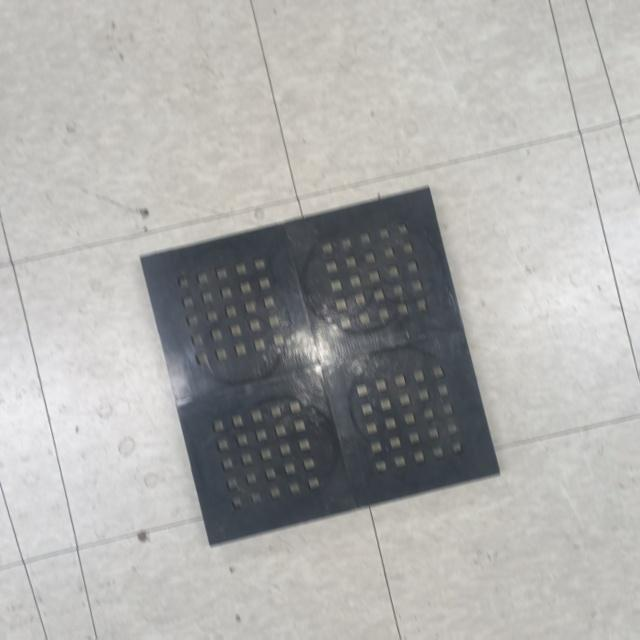pallet: (133, 180, 507, 555)
